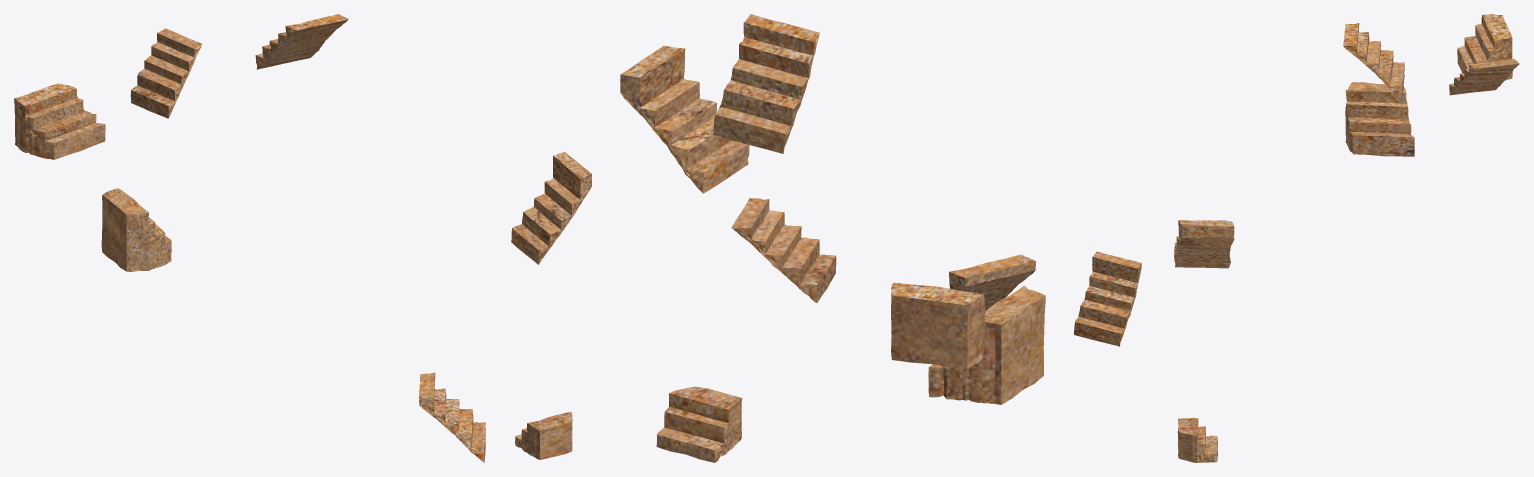
Rendered from new-stairs.fbx.
3 views of the same model, side by side, from view 1: azimuth 30°, elevation 25°; view 2: azimuth 150°, elevation 25°; view 3: azimuth 270°, elevation 25° (orthographic). The views are drawn at different scales.
Parts seen in each view (by area): view 1: stair4; view 2: stair4; view 3: stair4.
Boxes of the visible parts, box(x1,y1,x2,y2) form: stair4: box(14, 14, 591, 462); stair4: box(620, 14, 1045, 462); stair4: box(1074, 14, 1519, 462).
Size of the model in its own units: 827 by 784 by 888.
1 material, 1 textured.
